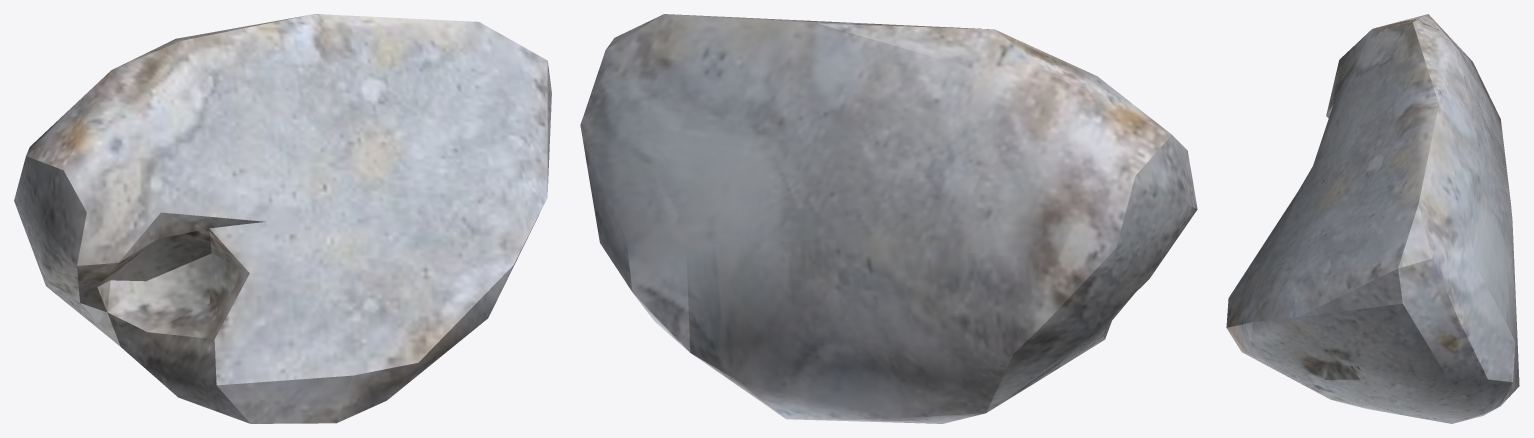
File: rock.glb
The picture shows the model from 3 angles, left to right: view 1: azimuth 30°, elevation 25°; view 2: azimuth 150°, elevation 25°; view 3: azimuth 270°, elevation 25°; orthographic projection. The views are drawn at different scales.
Visible parts, largest first — view 1: rock076_lod4; view 2: rock076_lod4; view 3: rock076_lod4.
Boxes of the visible parts, x1=… form: rock076_lod4: x1=14, y1=14, x2=551, y2=423; rock076_lod4: x1=580, y1=14, x2=1197, y2=423; rock076_lod4: x1=1226, y1=14, x2=1519, y2=423.
Bounding box in the file's own units: 1 × 0.6855 × 0.5483.
1 material, 1 textured.
